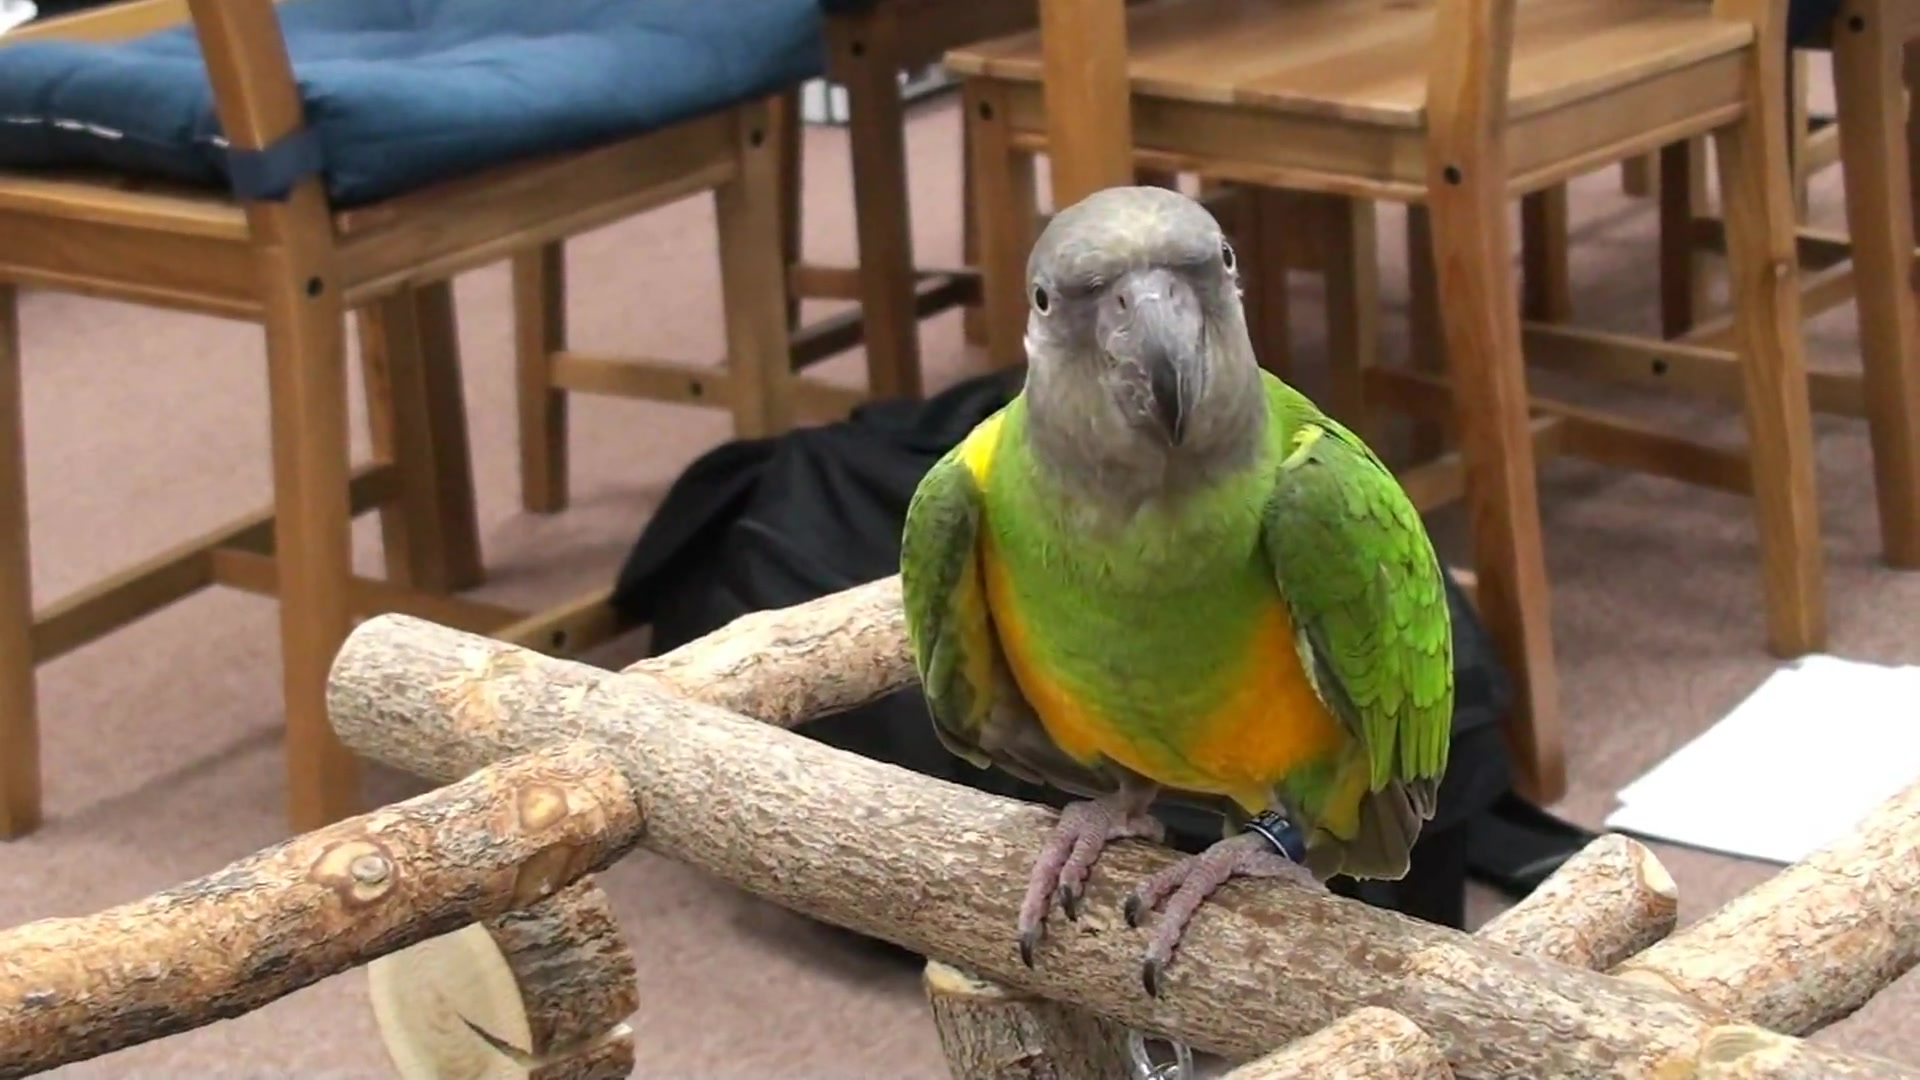bird: (897, 191, 1458, 996)
